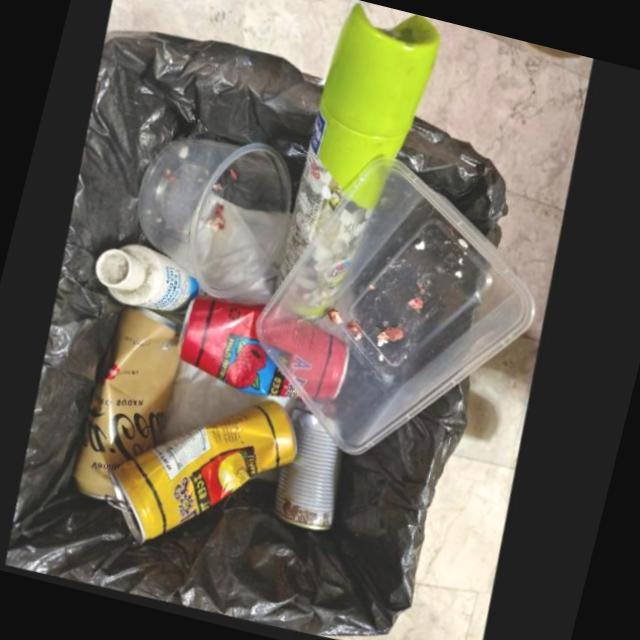chai_nhua: (98, 246, 202, 314)
hop_nhua: (258, 160, 539, 458), (142, 137, 297, 301)
nhom: (280, 7, 447, 323), (105, 402, 298, 545), (75, 307, 187, 500), (181, 298, 351, 407), (273, 412, 343, 533)
